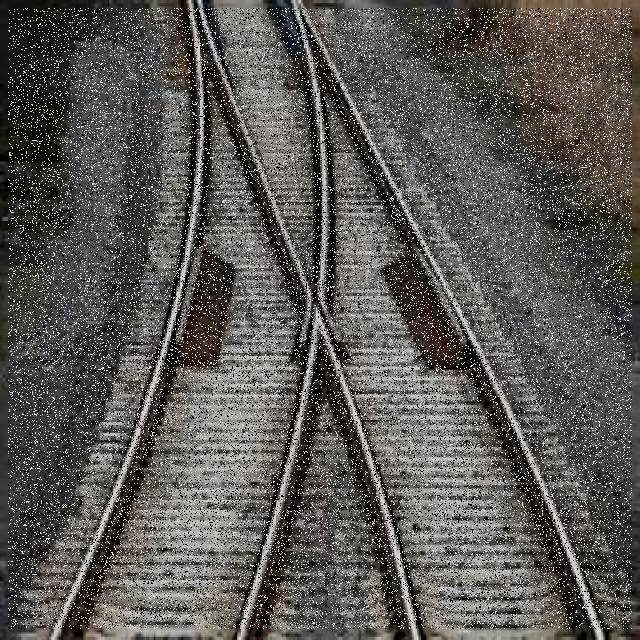rail: (8, 9, 632, 629)
